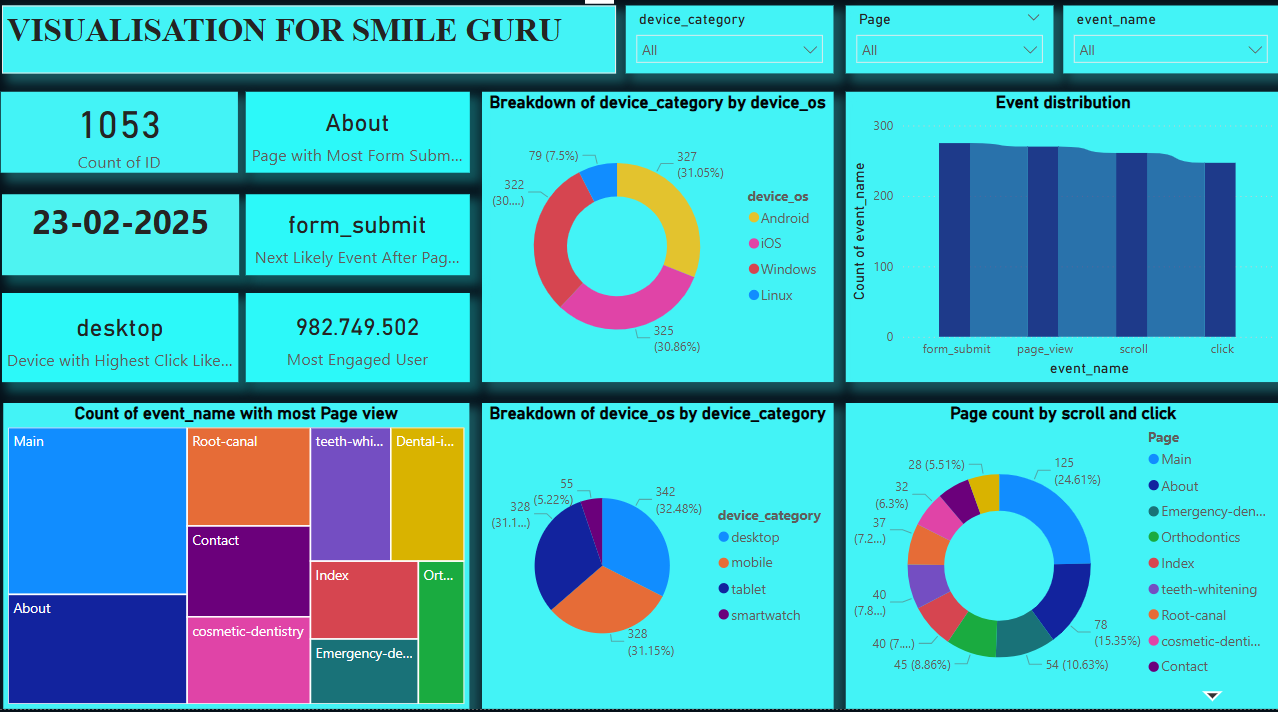

The page's visual inventory and layout, read from the dashboard file:
{"tool":"powerbi","page":{"name":"Page 1","canvas":[1280,720],"ordinal":0},"visuals":[{"type":"treemap","title":"Count of event_name with most Page view","fields":{"Group":["Cdata.Page"],"Values":["CountNonNull(Cdata.event_name)"]},"box":[15.9,420.7,456.1,299.6],"z":0},{"type":"pieChart","title":"Breakdown of device_os by device_category","fields":{"Category":["Cdata.device_category"],"Y":["CountNonNull(Cdata.device_os)"]},"box":[484.2,420.7,343.6,299.6],"z":1000},{"type":"donutChart","title":"Page count by scroll and click","fields":{"Category":["Cdata.Page"],"Y":["CountNonNull(Cdata.event_name)"]},"box":[840.1,420.7,425.5,299.6],"z":2000},{"type":"card","fields":{"Values":["CountNonNull(Cdata.ID)"]},"box":[13.5,116.2,232.3,79.5],"z":3000},{"type":"slicer","fields":{"Values":["Cdata.Page"]},"box":[840.1,31.8,203,66],"z":4000},{"type":"ribbonChart","title":"Event  distribution","fields":{"Category":["Cdata.event_name"],"Y":["CountNonNull(Cdata.event_name)"]},"box":[840.1,116.2,425.5,283.7],"z":5000},{"type":"donutChart","title":"Breakdown of device_category by device_os","fields":{"Category":["Cdata.device_os"],"Y":["CountNonNull(Cdata.device_category)"]},"box":[484.2,116.2,343.6,283.7],"z":6000},{"type":"slicer","fields":{"Values":["Cdata.event_name"]},"box":[1052.9,31.8,210.3,66],"z":7000},{"type":"textbox","box":[14.7,31.8,600.4,66],"z":8000},{"type":"textbox","box":[14.7,216.4,232.3,79.5],"z":9000},{"type":"card","fields":{"Values":["Cdata.Device with Highest Click Likelihood"]},"box":[14.7,313,231.1,86.8],"z":10000},{"type":"card","fields":{"Values":["Cdata.Page with Most Form Submissions"]},"box":[253.1,116.2,218.9,79.5],"z":11000},{"type":"card","fields":{"Values":["Cdata.Next Likely Event After Page View"]},"box":[253.1,216.4,218.9,79.5],"z":12000},{"type":"card","fields":{"Values":["Cdata.Most Engaged User"]},"box":[253.1,313,218.9,86.8],"z":13000},{"type":"slicer","fields":{"Values":["Cdata.device_category"]},"box":[624.9,31.8,203,66],"z":14000}]}

Visuals, with their boxes in screenshot pixels (x1, y1, x2, y2), scaled from the page's 1280x720 canvas onto the 1278x712 screenshot:
"Count of event_name with most Page view" treemap: box(16, 416, 471, 711)
"Breakdown of device_os by device_category" pieChart: box(483, 416, 827, 711)
"Page count by scroll and click" donutChart: box(839, 416, 1264, 711)
card - CountNonNull(Cdata.ID): box(13, 115, 245, 194)
slicer - Cdata.Page: box(839, 31, 1041, 97)
"Event  distribution" ribbonChart: box(839, 115, 1264, 395)
"Breakdown of device_category by device_os" donutChart: box(483, 115, 827, 395)
slicer - Cdata.event_name: box(1051, 31, 1261, 97)
textbox: box(15, 31, 614, 97)
textbox: box(15, 214, 247, 293)
card - Cdata.Device with Highest Click Likelihood: box(15, 310, 245, 395)
card - Cdata.Page with Most Form Submissions: box(253, 115, 471, 194)
card - Cdata.Next Likely Event After Page View: box(253, 214, 471, 293)
card - Cdata.Most Engaged User: box(253, 310, 471, 395)
slicer - Cdata.device_category: box(624, 31, 827, 97)
